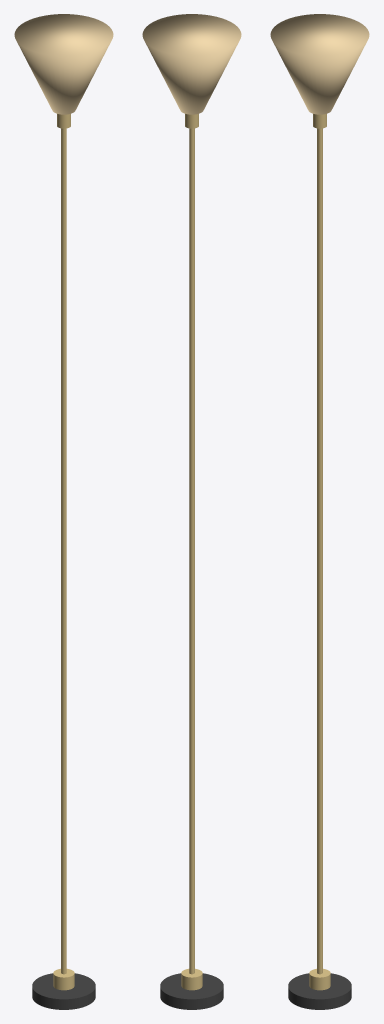
The model's file is floor_lamp.glb.
3 views of the same model, side by side, from view 1: azimuth 30°, elevation 25°; view 2: azimuth 210°, elevation 25°; view 3: azimuth 330°, elevation 25° (orthographic).
Parts seen in each view (by area): view 1: Cone.001, Cylinder.006, Cylinder.004, Cylinder.005; view 2: Cone.001, Cylinder.006, Cylinder.004, Cylinder.005; view 3: Cone.001, Cylinder.006, Cylinder.004, Cylinder.005.
Part boxes in pixels (x1=…): Cone.001: x1=14, y1=14, x2=113, y2=114; Cylinder.006: x1=61, y1=128, x2=66, y2=974; Cylinder.004: x1=32, y1=973, x2=95, y2=1009; Cylinder.005: x1=53, y1=968, x2=74, y2=990; Cone.001: x1=142, y1=14, x2=241, y2=114; Cylinder.006: x1=189, y1=128, x2=194, y2=974; Cylinder.004: x1=160, y1=973, x2=223, y2=1009; Cylinder.005: x1=181, y1=968, x2=202, y2=990; Cone.001: x1=270, y1=14, x2=369, y2=114; Cylinder.006: x1=317, y1=128, x2=322, y2=974; Cylinder.004: x1=288, y1=973, x2=351, y2=1009; Cylinder.005: x1=309, y1=968, x2=330, y2=990.
Size of the model in its own units: 8.4 by 90 by 8.4.
